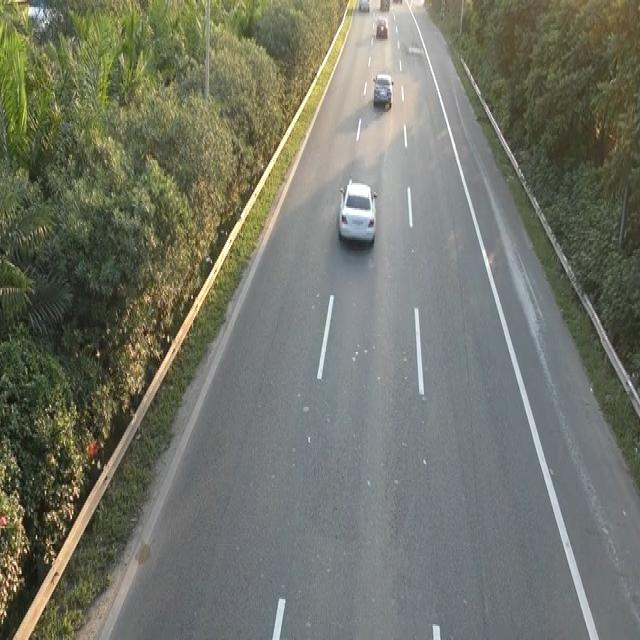bus: (335, 175, 380, 252), (371, 70, 394, 110)
